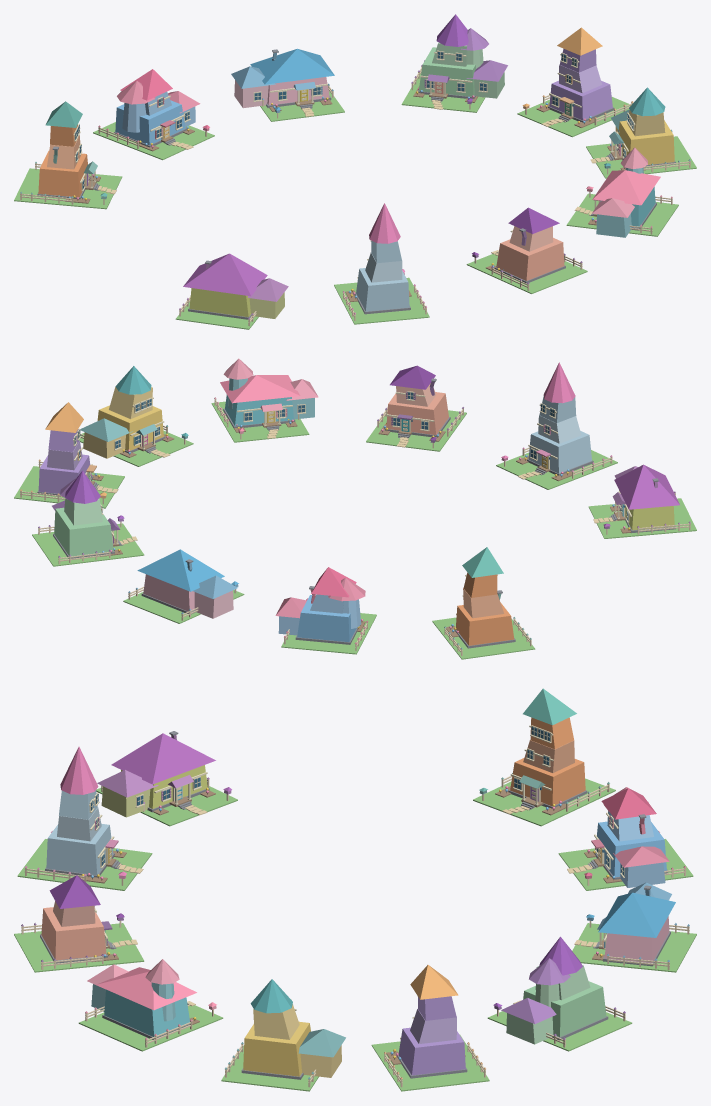
The model's file is kaleidoscope-crest.glb.
3 renders of one model, top to bottom at view 1: azimuth 30°, elevation 25°; view 2: azimuth 150°, elevation 25°; view 3: azimuth 270°, elevation 25°, orthographic. The views are drawn at different scales.
Parts seen in each view (by area): view 1: storybook_04.001, storybook_06.001, storybook_05.001, storybook_07.001, storybook_08.001, storybook_03.001, storybook_09.001, storybook_01.001, storybook_00.001, storybook_02.001; view 2: storybook_09.001, storybook_01.001, storybook_02.001, storybook_06.001, storybook_04.001, storybook_07.001, storybook_05.001, storybook_08.001, storybook_00.001, storybook_03.001; view 3: storybook_07.001, storybook_09.001, storybook_04.001, storybook_01.001, storybook_08.001, storybook_02.001, storybook_03.001, storybook_06.001, storybook_00.001, storybook_05.001.
Boxes of the visible parts, x1,y1,x2,y2 form: storybook_04.001: [401, 14, 507, 112]; storybook_06.001: [93, 69, 214, 160]; storybook_05.001: [231, 48, 344, 121]; storybook_07.001: [14, 101, 122, 209]; storybook_08.001: [175, 253, 288, 329]; storybook_03.001: [517, 27, 633, 137]; storybook_09.001: [334, 203, 429, 324]; storybook_01.001: [566, 147, 678, 237]; storybook_00.001: [466, 207, 587, 293]; storybook_02.001: [586, 87, 696, 178]; storybook_09.001: [496, 362, 617, 489]; storybook_01.001: [211, 358, 318, 442]; storybook_02.001: [79, 366, 193, 466]; storybook_06.001: [275, 567, 376, 654]; storybook_04.001: [32, 470, 144, 566]; storybook_07.001: [432, 547, 535, 659]; storybook_05.001: [123, 549, 244, 623]; storybook_08.001: [588, 464, 696, 538]; storybook_00.001: [366, 365, 466, 451]; storybook_03.001: [14, 402, 124, 508]; storybook_07.001: [473, 688, 615, 826]; storybook_09.001: [17, 746, 152, 890]; storybook_04.001: [487, 936, 632, 1051]; storybook_01.001: [78, 959, 223, 1051]; storybook_08.001: [96, 731, 237, 826]; storybook_02.001: [221, 979, 345, 1091]; storybook_03.001: [371, 965, 489, 1091]; storybook_06.001: [558, 787, 693, 890]; storybook_00.001: [14, 875, 144, 972]; storybook_05.001: [572, 882, 696, 972].
Bounding box in the file's own units: 89.35 × 15.27 × 79.04.
